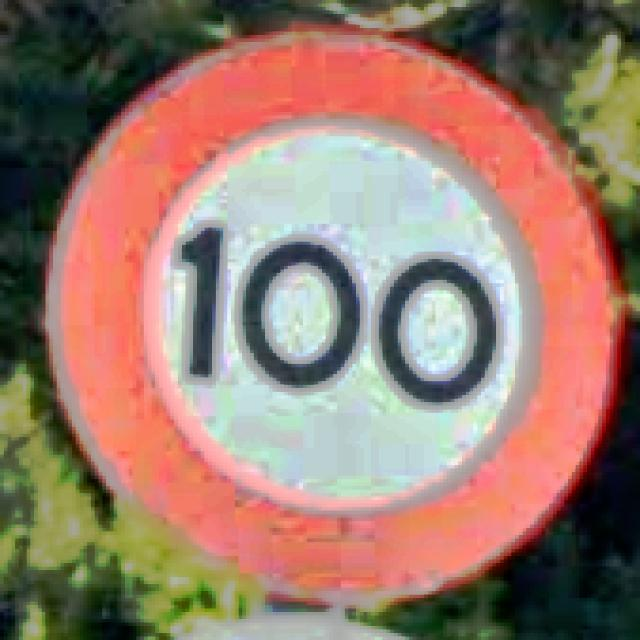max100: (38, 25, 625, 605)
